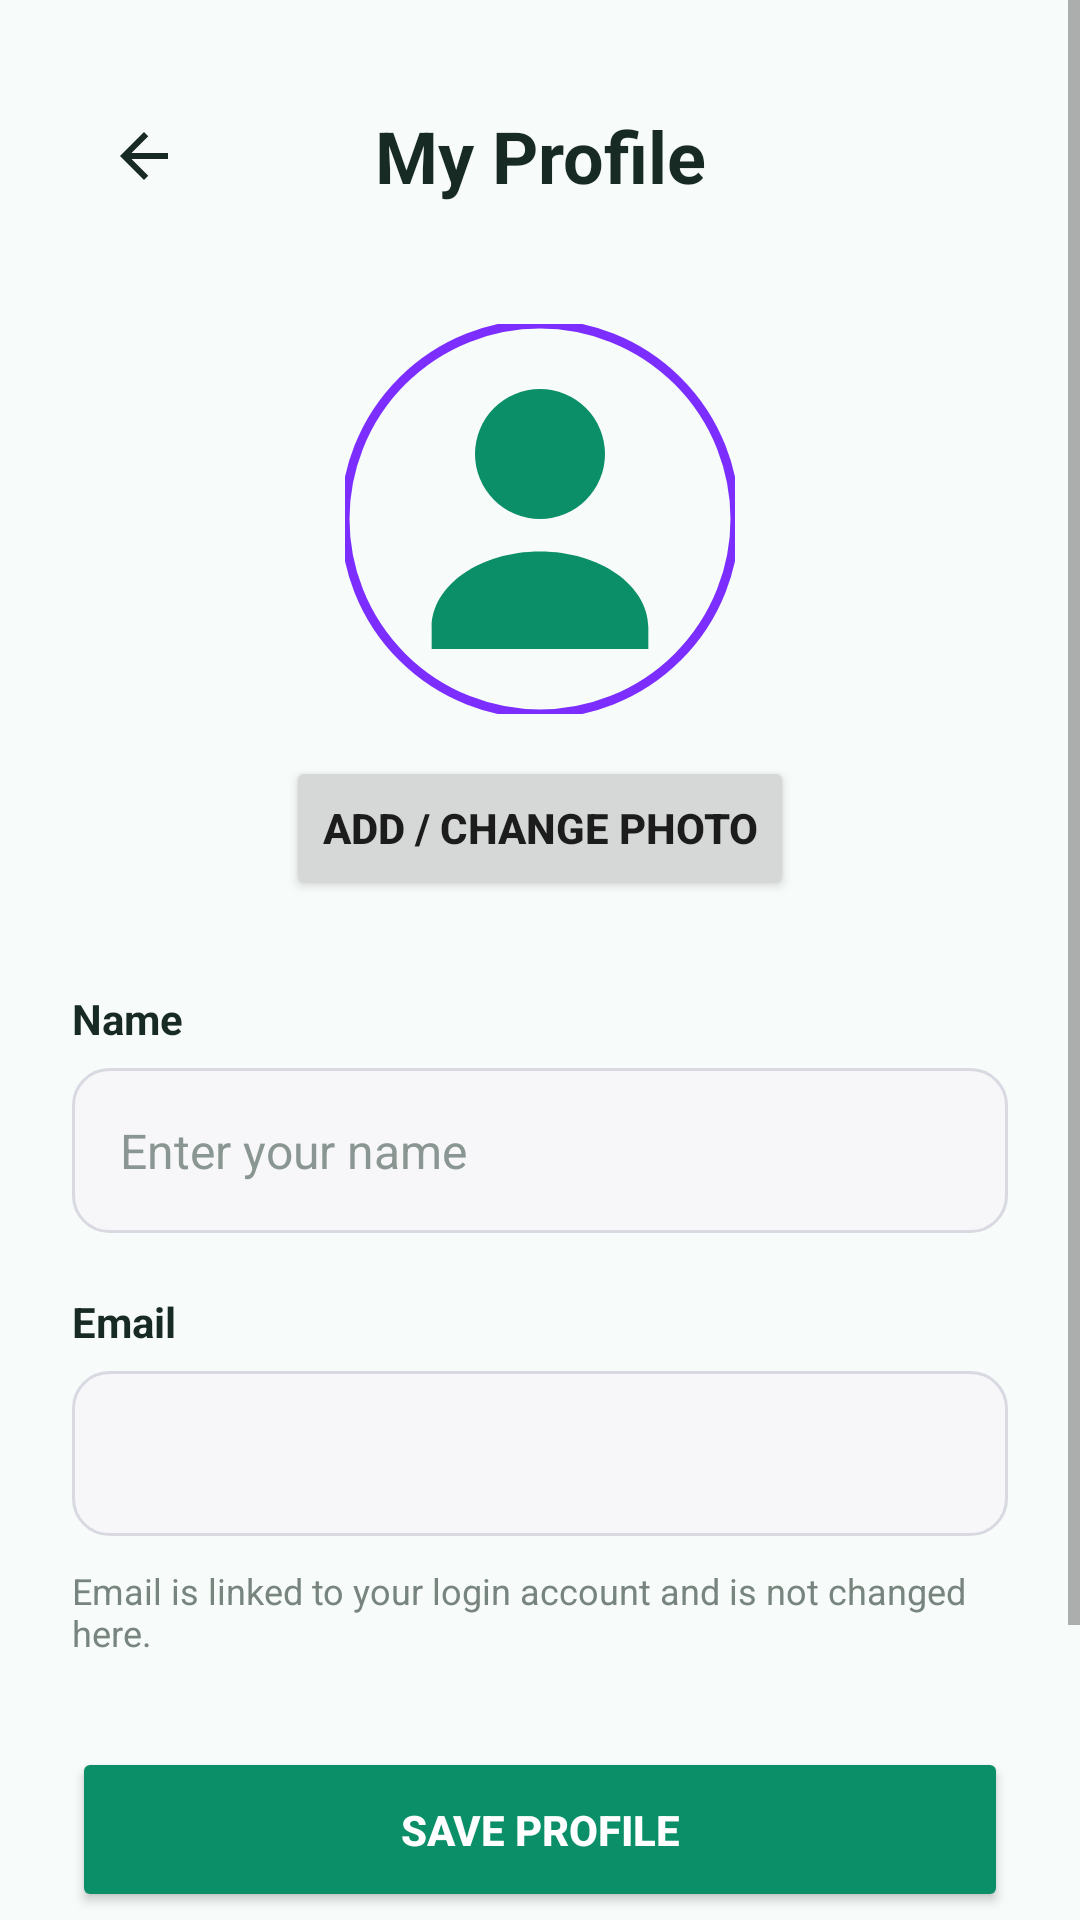

Screen size 1080x1920. Icon name, then its box in pixels as {"x1": x1, "y1": y1, "x2": x2, "y2": y2}:
Back: {"x1": 120, "y1": 132, "x2": 168, "y2": 180}
